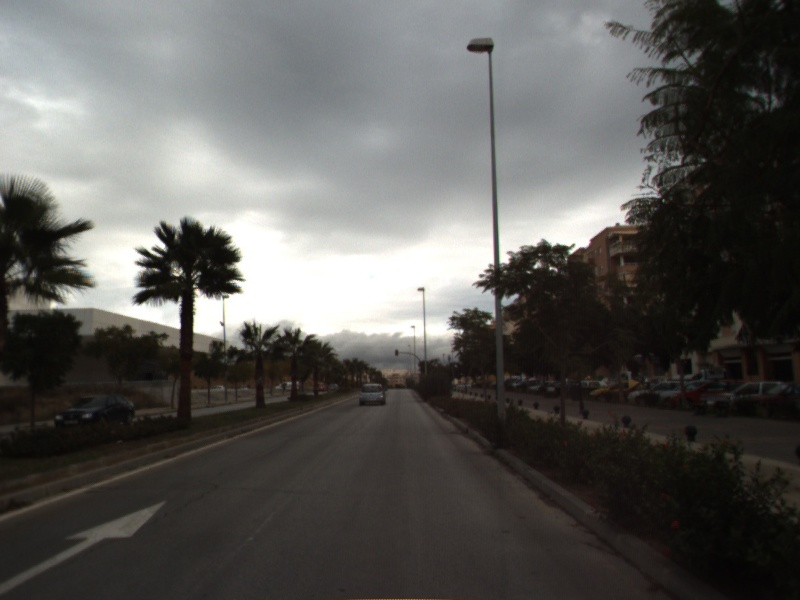STRAIGHT: (1, 498, 170, 596)
